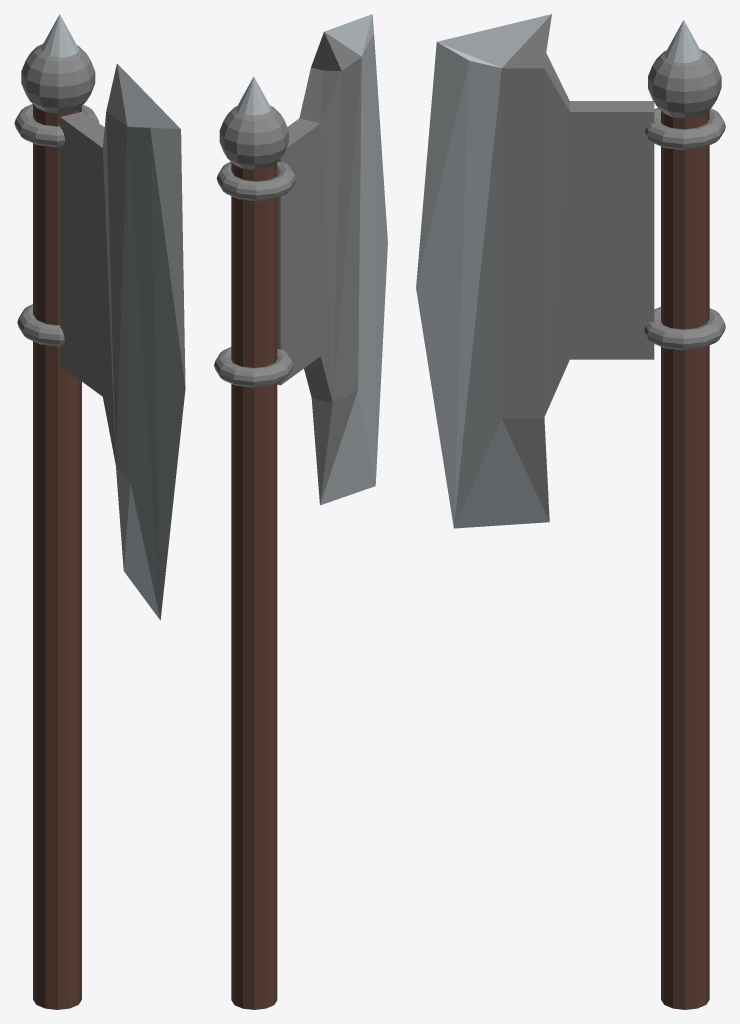
File: axe.glb
3 views of the same model, side by side, from view 1: azimuth 30°, elevation 25°; view 2: azimuth 150°, elevation 25°; view 3: azimuth 270°, elevation 25° (orthographic). The views are drawn at different scales.
Visible parts, largest first — view 1: node_MeshObject-1363322880-PolyPaper21; view 2: node_MeshObject-1363322880-PolyPaper21; view 3: node_MeshObject-1363322880-PolyPaper21.
Boxes of the visible parts, x1,y1,x2,y2 form: node_MeshObject-1363322880-PolyPaper21: [14, 14, 185, 1009]; node_MeshObject-1363322880-PolyPaper21: [214, 14, 387, 1009]; node_MeshObject-1363322880-PolyPaper21: [416, 14, 725, 1009].
Size of the model in its own units: 0.27 by 3.33 by 0.9536.
